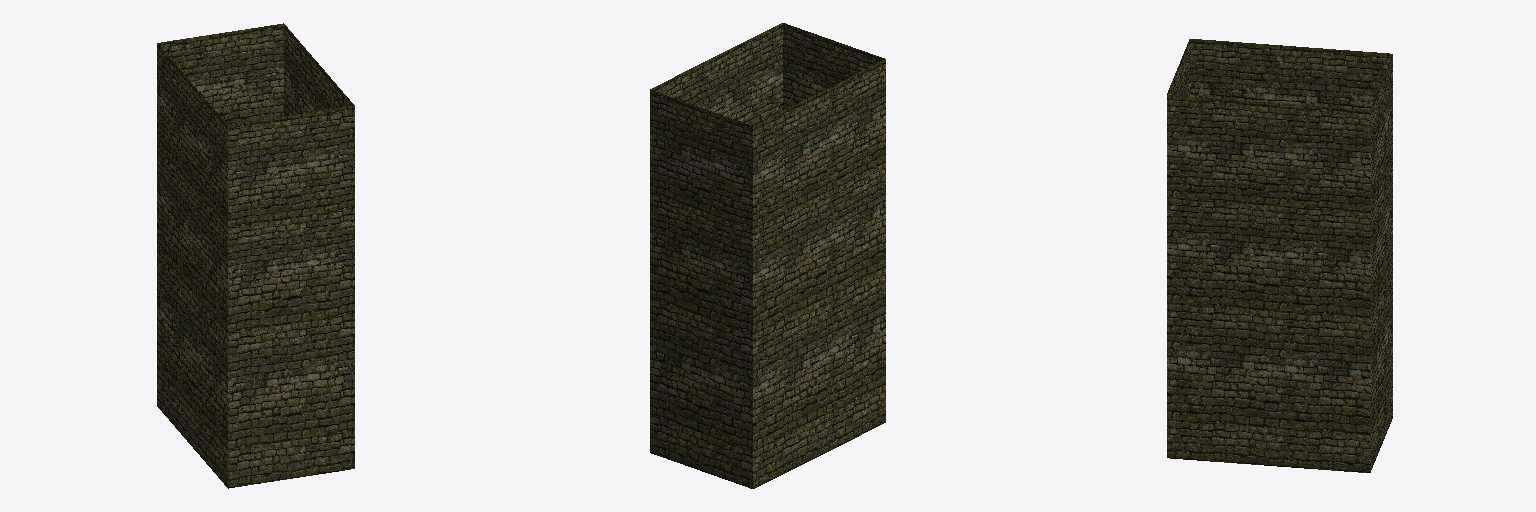
3 views of the same model, side by side, from view 1: azimuth 30°, elevation 25°; view 2: azimuth 150°, elevation 25°; view 3: azimuth 270°, elevation 25° (orthographic).
Parts seen in each view (by area): view 1: mesh0; view 2: mesh0; view 3: mesh0.
Boxes of the visible parts, x1,y1,x2,y2 form: mesh0: [157, 23, 354, 488]; mesh0: [650, 23, 885, 488]; mesh0: [1167, 39, 1392, 472].
Size of the model in its own units: 7.76 by 18.44 by 10.42.
Materials: 1 (1 with a texture image).